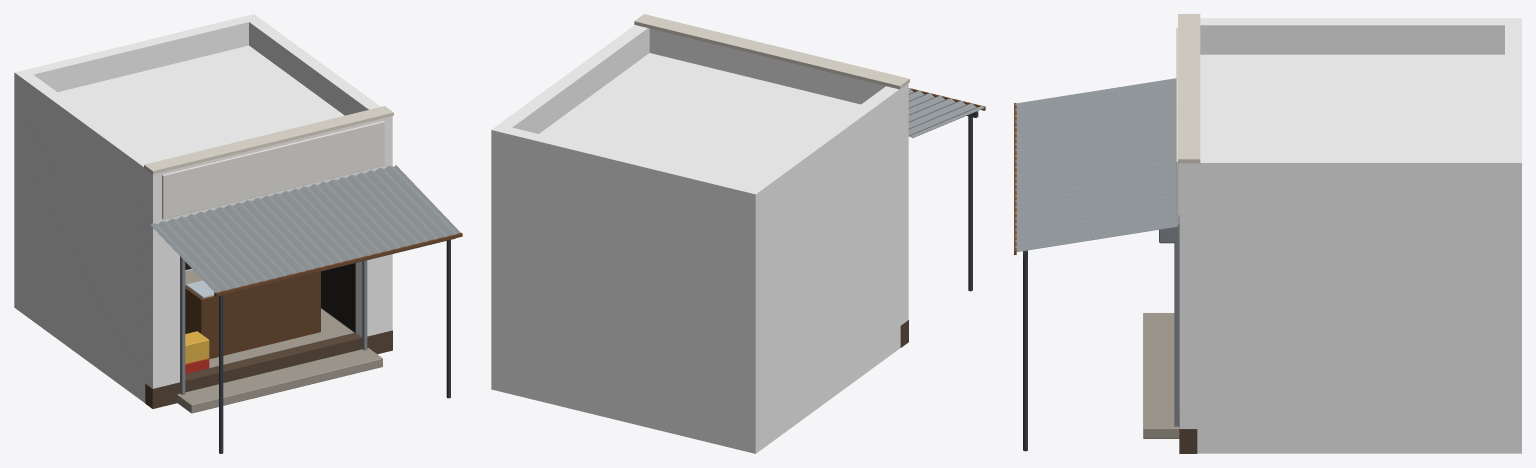
Rendered from shop_open.glb.
3 renders of one model, left to right at view 1: azimuth 30°, elevation 25°; view 2: azimuth 150°, elevation 25°; view 3: azimuth 270°, elevation 25°, orthographic. The views are drawn at different scales.
Visible parts, largest first — view 1: shop_open; view 2: shop_open; view 3: shop_open.
Part boxes in pixels (x1,y1,x2,y2): shop_open: (14, 14, 462, 453); shop_open: (491, 14, 985, 453); shop_open: (1014, 14, 1521, 453).
Bounding box in the file's own units: 4.1 × 3.8 × 5.94.
